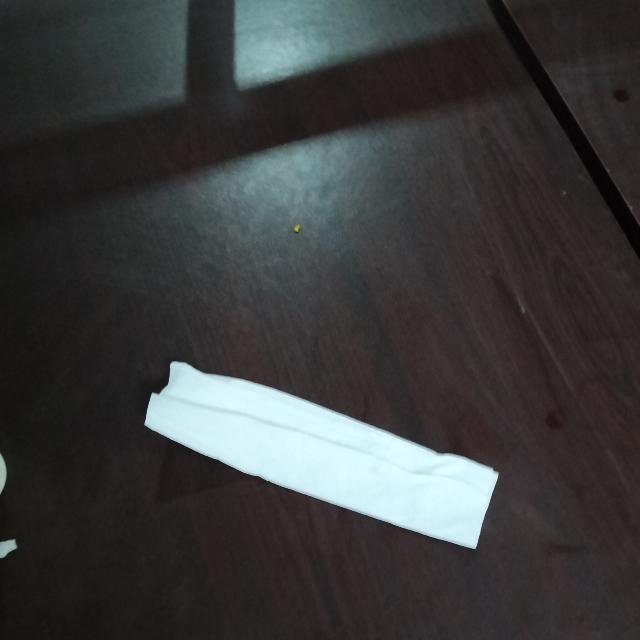kitchen paper: (141, 355, 504, 555)
